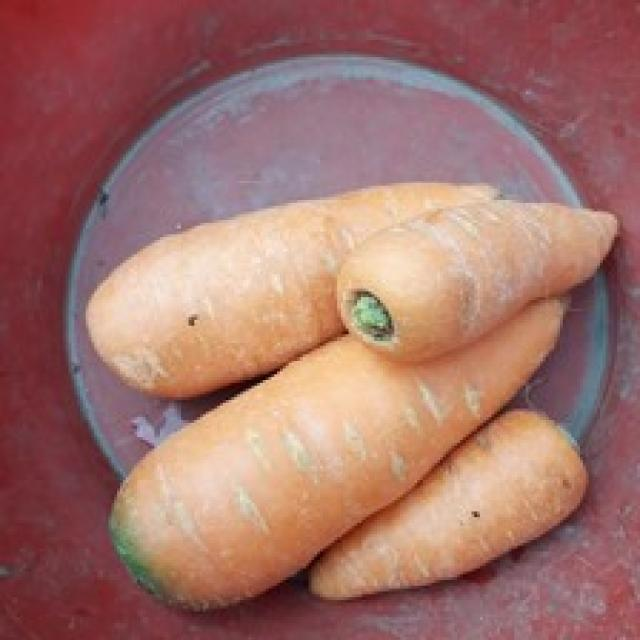Fresh_Carrot: (86, 220, 594, 586)
